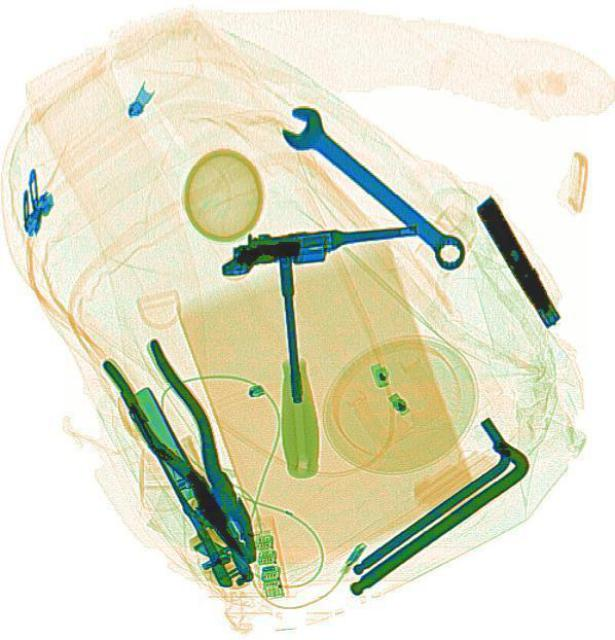Gun: (468, 190, 562, 330), (218, 218, 419, 272)
Pliers: (97, 329, 283, 577)
Wrench: (270, 95, 473, 281)
